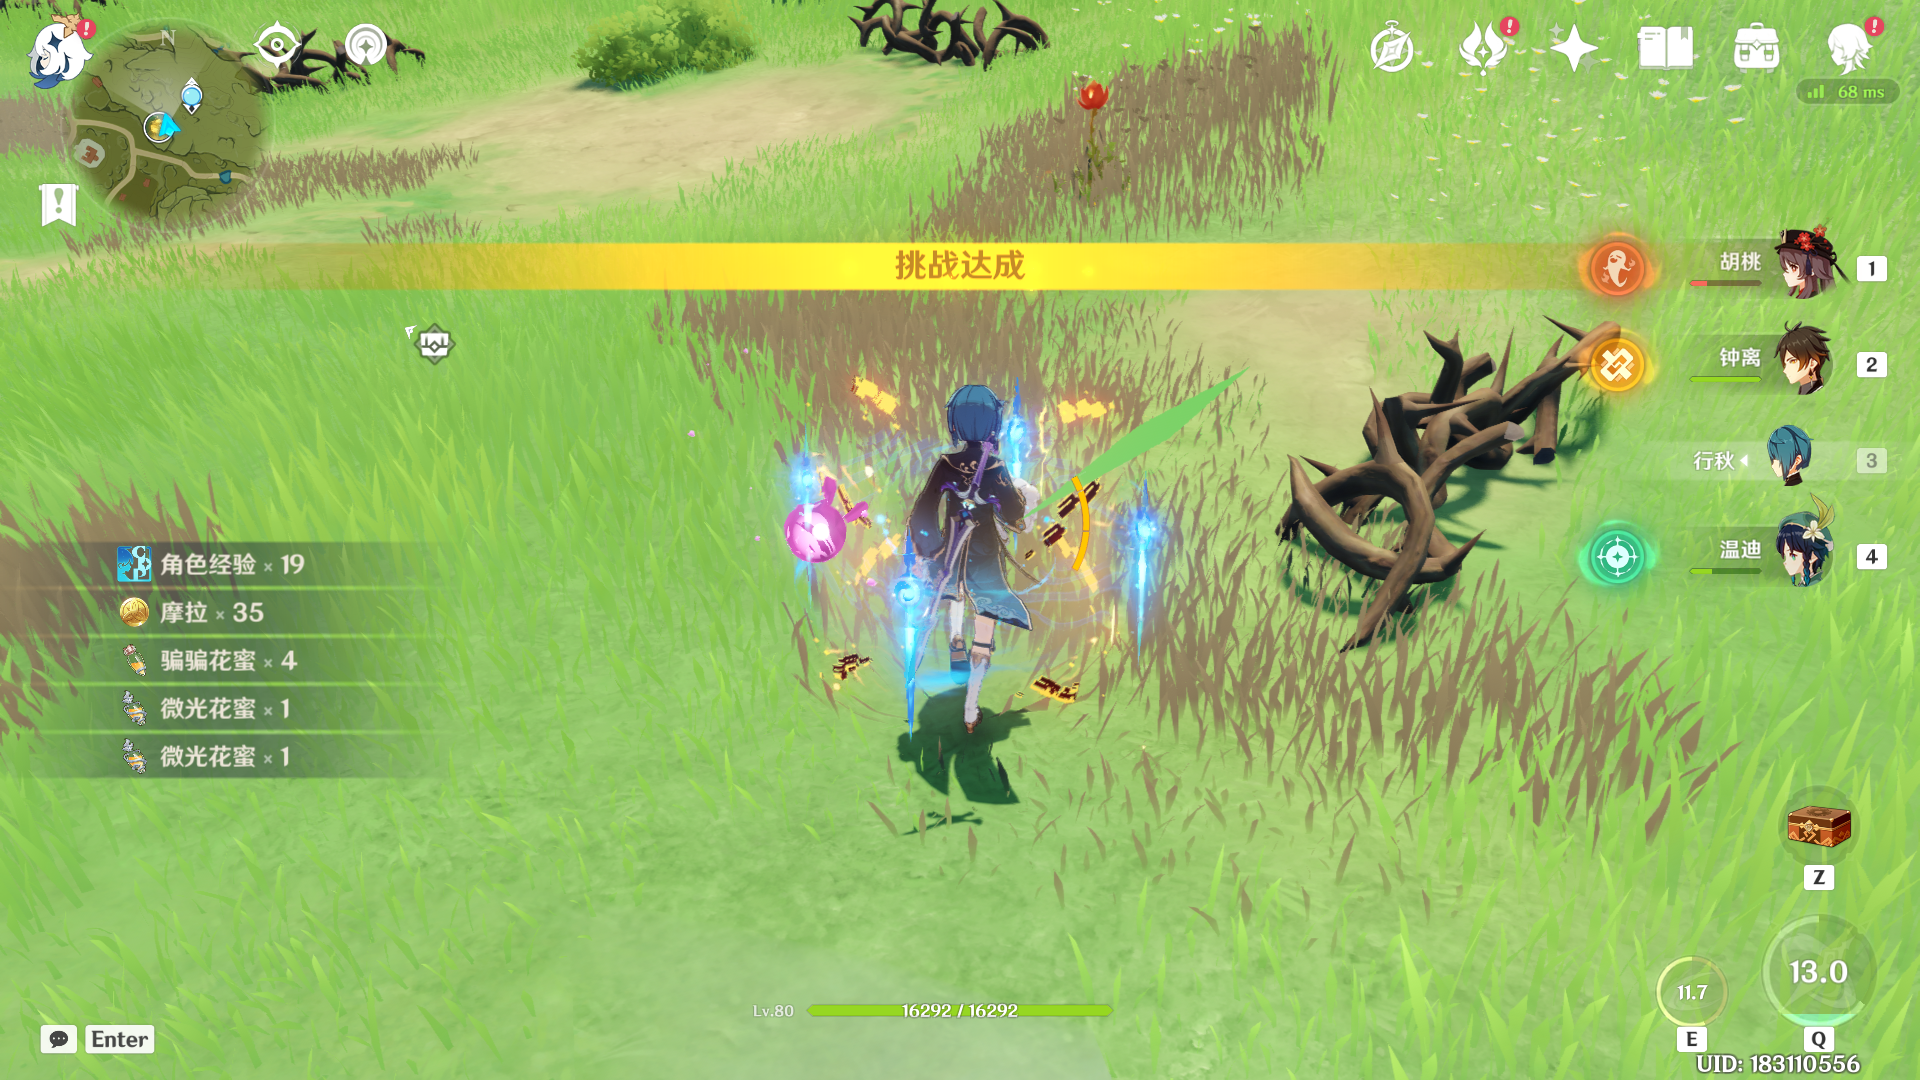character: (837, 348, 1109, 756)
